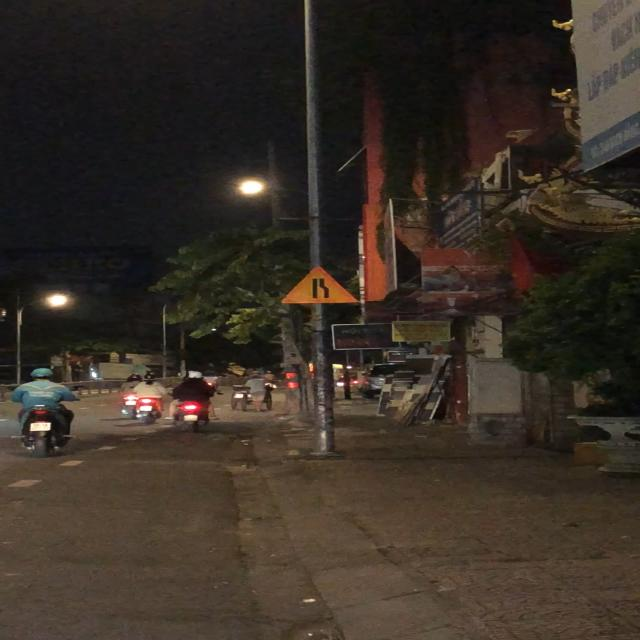Bien bao duong bi thu hep: (276, 264, 362, 305)
